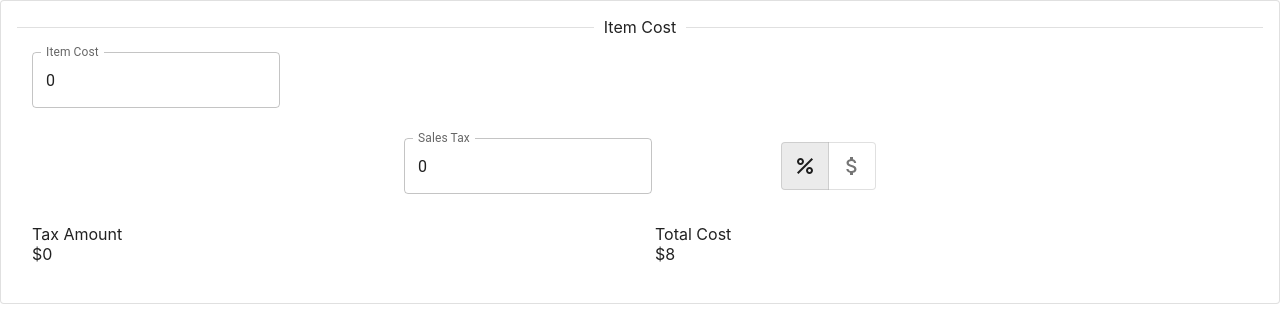
Test case: Item Cost Component › Input Cost with Tax Toggle
expect the text with test id "spTotalCost" reads "$8": met, box [655,244,675,264]
Step 1. Type "10" into the number field labelled "Sales Tax" → (528, 166), box [404,138,652,194]
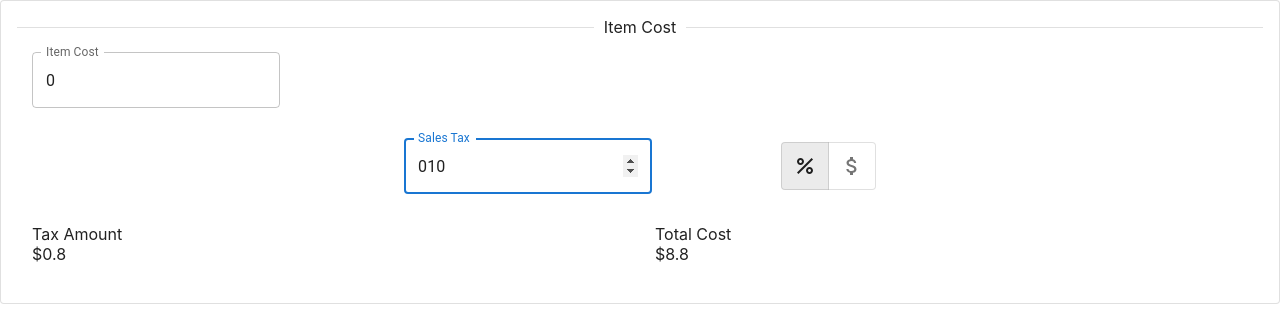
expect the text with test id "spTotalCost" reads "$8.8": met, box [655,244,689,264]
Step 2. Click the button named "fixed" → click(852, 166), box [828,142,876,190]
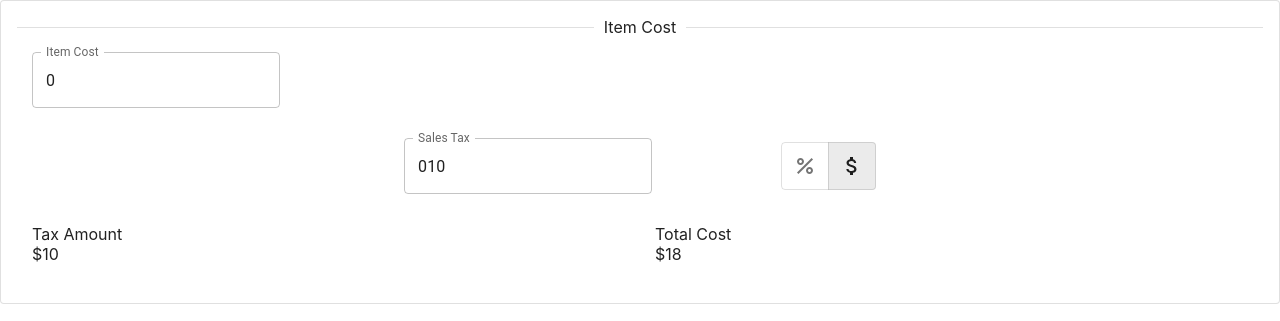
expect the text with test id "spTotalCost" reads "$18": met, box [655,244,682,264]
